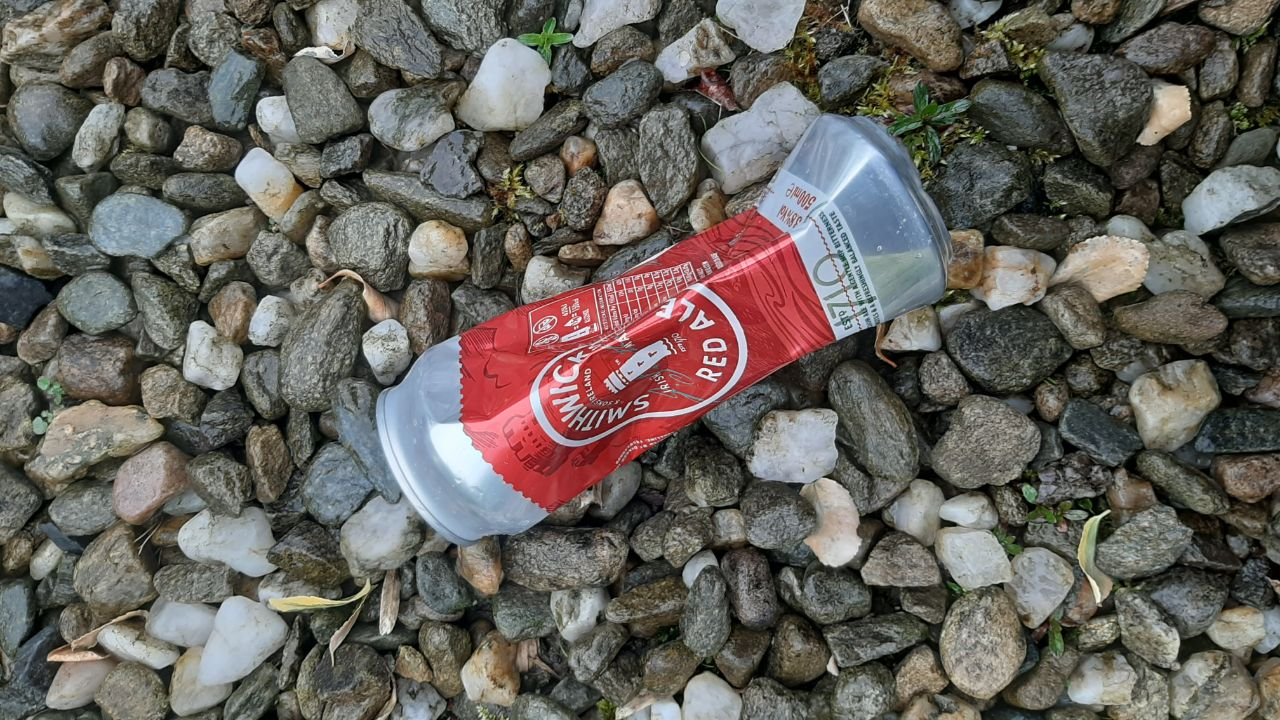Can: (371, 112, 952, 544)
